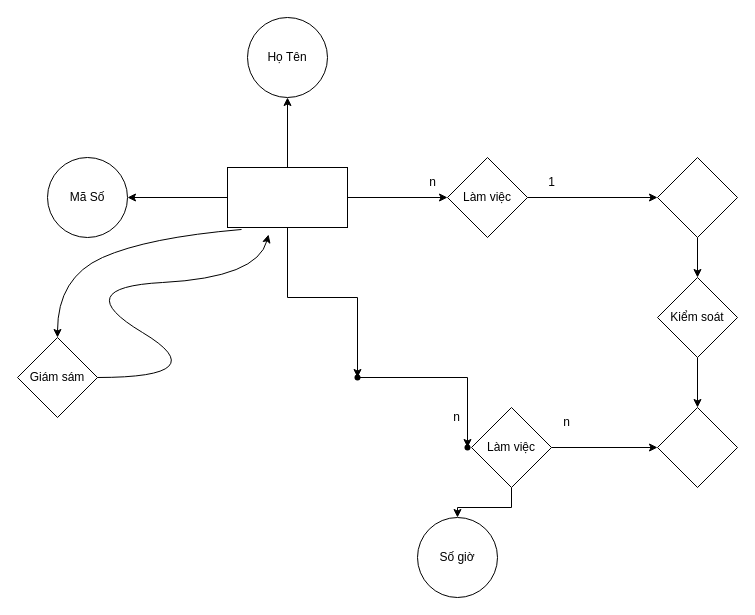
Some shapes in this 755 by 615 pixel diagram are drawn without their labels. Each missing label, with the box of its shape:
Dự án: (656, 406, 738, 488)
Nhân viên: (226, 166, 348, 228)
Đơn vị: (656, 156, 738, 238)
